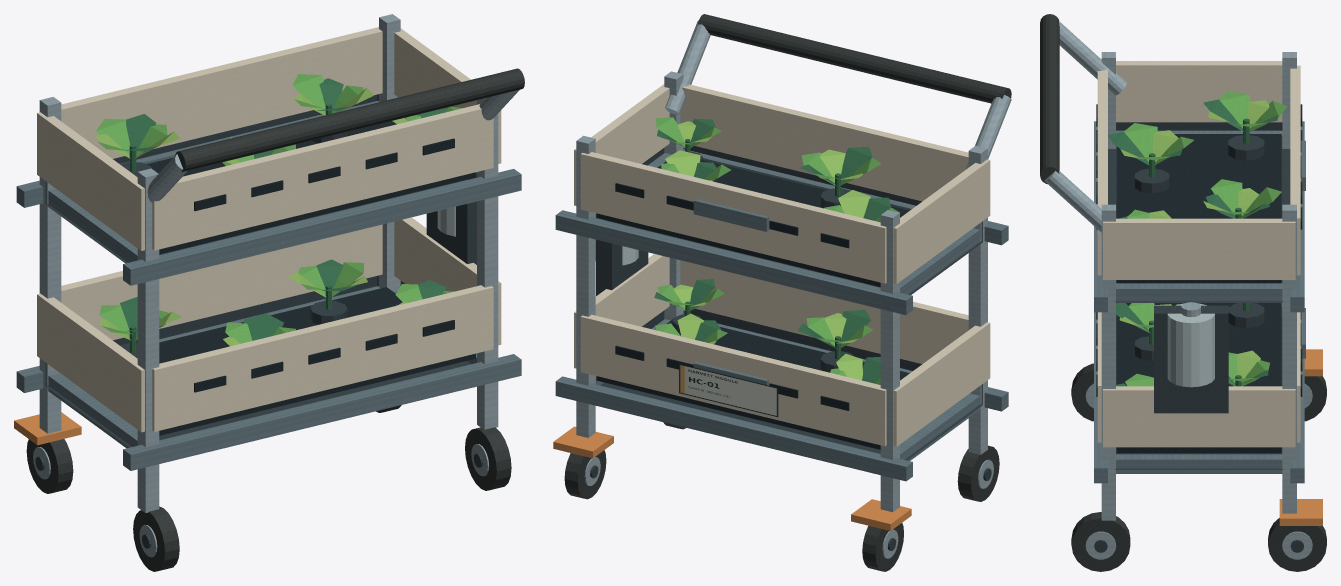
File: harvest_cart.glb
3 renders of one model, left to right at view 1: azimuth 30°, elevation 25°; view 2: azimuth 150°, elevation 25°; view 3: azimuth 270°, elevation 25°, orthographic. The views are drawn at different scales.
Visible parts, largest first — view 1: Harvest_Bin_Top__cream, Harvest_Bin_Lower__cream, static__trim, static__alloy, Cart_Handle__rubber, Harvest_Bin_Lower__carbon, Caster_Wheels__rubber, Produce__leaf1, Harvest_Bin_Top__carbon, Produce__leaf3, Harvest_Bin_Lower__graphite, Harvest_Bin_Top__graphite (+6 smaller); view 2: Harvest_Bin_Top__cream, Harvest_Bin_Lower__cream, static__trim, static__alloy, Cart_Handle__rubber, Harvest_Bin_Top__carbon, Produce__leaf3, Harvest_Bin_Lower__carbon, Caster_Wheels__rubber, Produce__leaf2, Harvest_Bin_Lower__graphite, Produce__leaf1 (+8 smaller); view 3: Harvest_Bin_Top__cream, Harvest_Bin_Lower__cream, static__trim, Harvest_Bin_Top__carbon, static__alloy, Harvest_Bin_Lower__carbon, Caster_Wheels__rubber, Produce__leaf1, static__graphite, static__tank, Cart_Handle__rubber, Crop_Pods__graphite (+7 smaller).
Boxes of the visible parts, x1,y1,x2,y2 form: Harvest_Bin_Top__cream: (37, 27, 501, 250); Harvest_Bin_Lower__cream: (37, 217, 501, 432); static__trim: (16, 101, 521, 470); static__alloy: (39, 14, 498, 512); Cart_Handle__rubber: (175, 68, 524, 171); Harvest_Bin_Lower__carbon: (159, 287, 475, 435); Caster_Wheels__rubber: (26, 405, 511, 571); Produce__leaf1: (96, 74, 462, 346); Harvest_Bin_Top__carbon: (147, 121, 475, 254); Produce__leaf3: (120, 78, 447, 352); Harvest_Bin_Lower__graphite: (45, 275, 471, 447); Harvest_Bin_Top__graphite: (45, 94, 467, 263); Harvest_Bin_Top__cream: (574, 84, 990, 283); Harvest_Bin_Lower__cream: (574, 254, 990, 446); static__trim: (555, 149, 1008, 481); static__alloy: (576, 71, 987, 512); Cart_Handle__rubber: (698, 14, 1011, 103); Harvest_Bin_Top__carbon: (596, 160, 909, 286); Produce__leaf3: (654, 118, 891, 383); Harvest_Bin_Lower__carbon: (596, 318, 909, 449); Caster_Wheels__rubber: (564, 422, 999, 571); Produce__leaf2: (665, 121, 870, 380); Harvest_Bin_Lower__graphite: (600, 309, 982, 460); Produce__leaf1: (655, 117, 899, 384); Harvest_Bin_Top__cream: (1097, 61, 1300, 279); Harvest_Bin_Lower__cream: (1097, 312, 1300, 447); static__trim: (1094, 121, 1304, 483); Harvest_Bin_Top__carbon: (1096, 104, 1302, 283); static__alloy: (1101, 52, 1296, 520); Harvest_Bin_Lower__carbon: (1096, 303, 1302, 453); Caster_Wheels__rubber: (1071, 363, 1326, 571); Produce__leaf1: (1124, 91, 1286, 386); static__graphite: (1154, 305, 1228, 413); static__tank: (1167, 303, 1214, 387); Cart_Handle__rubber: (1040, 14, 1059, 184); Crop_Pods__graphite: (1135, 135, 1264, 360).
Bounding box in the file's own units: 1.11 × 1.13 × 0.73.
12 materials, 12 textured.
